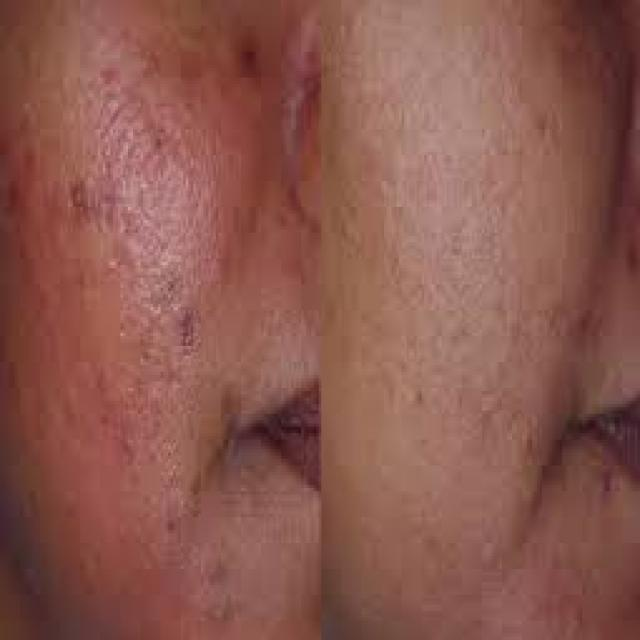Rosacea: (0, 140, 195, 595)
